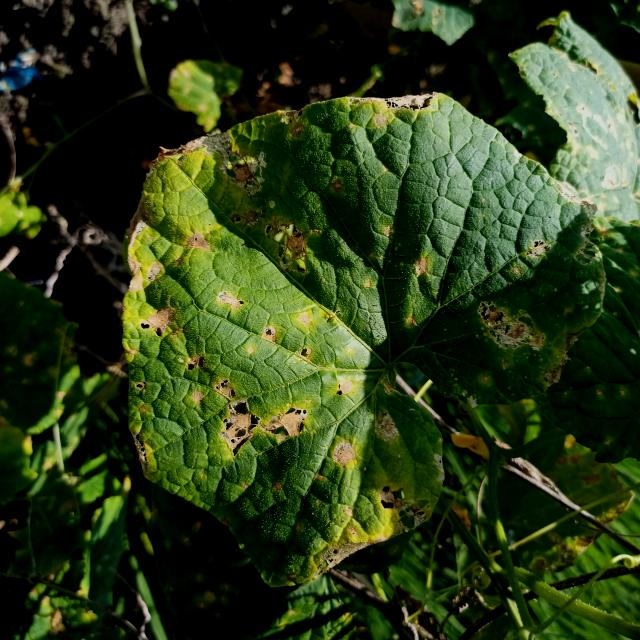disease_cucumber: (133, 110, 582, 580)
